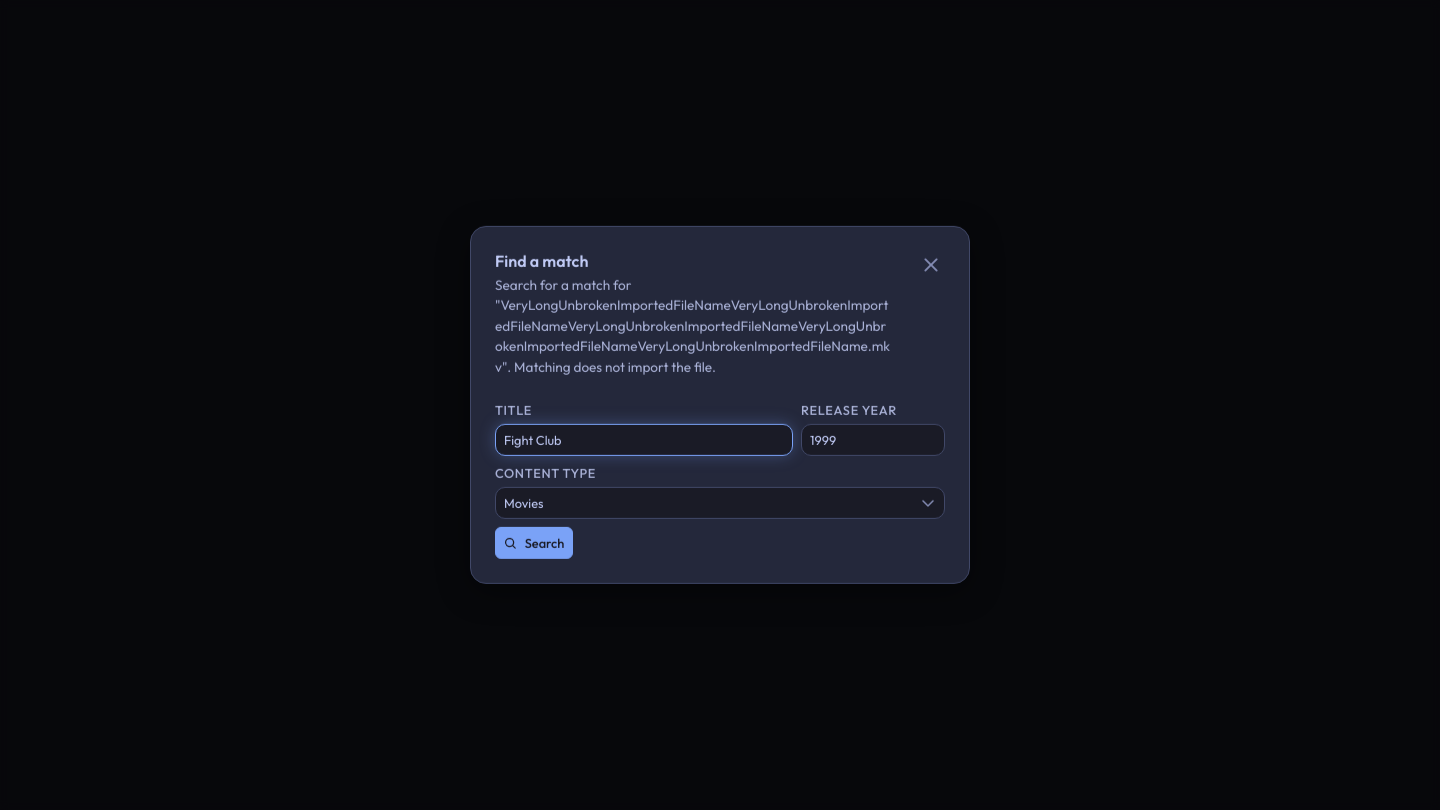
it: ManualMatchDialog › renders long filenames and candidate titles inside wrapping containers
Step 1. Click the button "Search" → (534,543), box [495,527,573,559]
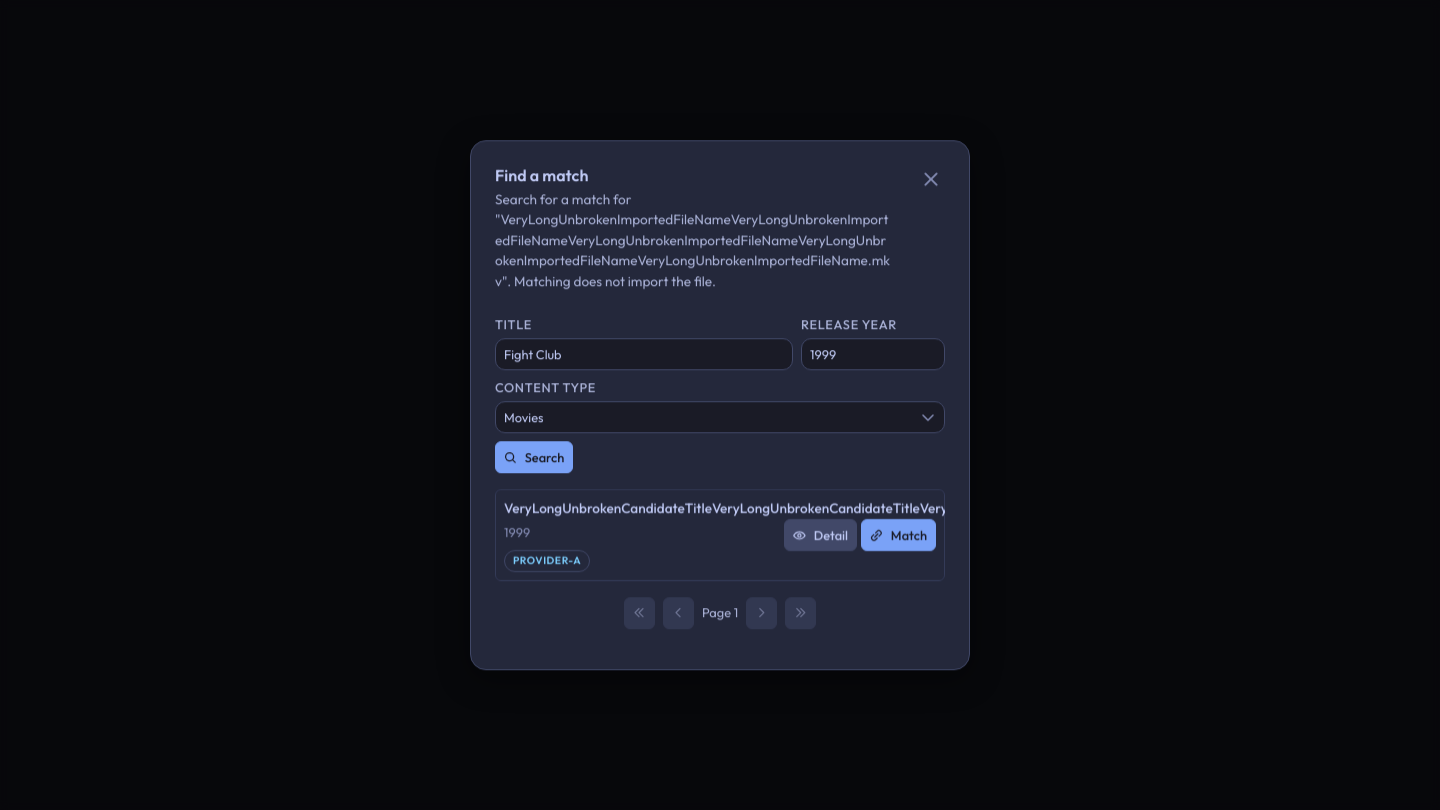
expect the list with test id "manual-match-dialog__results" is shown: met, box [495,490,945,581]
